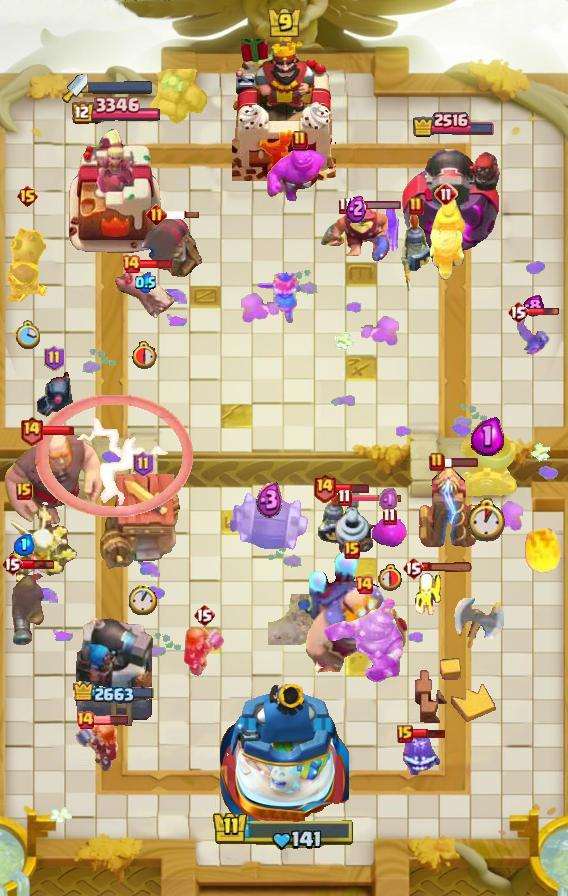axe: (453, 598, 505, 650)
bar: (422, 562, 474, 573), (351, 200, 402, 211), (349, 493, 403, 502), (93, 714, 129, 726), (20, 558, 56, 570), (443, 456, 479, 468), (335, 482, 370, 494), (139, 258, 174, 270), (411, 728, 447, 739), (41, 425, 75, 436), (164, 210, 200, 220), (526, 307, 560, 317)
bar-level: (312, 472, 337, 503), (19, 415, 44, 446), (434, 182, 458, 206), (16, 184, 39, 208), (133, 451, 154, 477), (44, 345, 65, 371), (193, 603, 215, 627), (402, 556, 424, 580), (1, 552, 23, 576), (507, 300, 529, 324), (146, 204, 167, 225), (75, 710, 95, 730), (354, 575, 374, 595), (121, 254, 141, 274), (429, 452, 445, 472), (408, 196, 424, 216), (292, 130, 308, 150), (397, 725, 413, 743), (344, 541, 360, 559), (16, 482, 32, 500), (382, 507, 397, 526), (337, 488, 352, 507), (338, 196, 353, 215)
barbarian-barrel: (227, 490, 311, 552)
bat-evolution: (515, 312, 551, 358)
bomber-evolution: (3, 211, 51, 307)
cannoneer-tower: (401, 138, 505, 256), (71, 611, 157, 731)
clock: (466, 498, 508, 542), (129, 584, 157, 615), (132, 340, 159, 369), (15, 320, 40, 350), (376, 563, 402, 591)
dagger-duchess-tower: (64, 124, 164, 256)
dagger-duchess-tower-bar: (88, 81, 152, 94)
dirt: (268, 594, 330, 645)
electro-spirit: (400, 731, 440, 775)
elixir: (471, 417, 504, 456), (256, 482, 283, 519), (346, 194, 366, 223), (379, 487, 400, 513), (522, 295, 544, 317), (14, 534, 35, 556), (135, 272, 156, 293)
elixir-golem-mid: (266, 147, 334, 203)
elixir-golem-small: (371, 519, 407, 549)
golemite: (141, 68, 207, 130)
guard: (397, 212, 435, 300), (318, 489, 362, 547)
hog: (112, 268, 178, 322)
king-tower: (220, 678, 349, 826), (232, 39, 336, 181)
king-tower-bar: (212, 810, 356, 852)
mini-pekka: (33, 368, 75, 422)
mortar: (457, 432, 517, 496)
musketeer: (10, 569, 48, 647)
ram-rider: (425, 199, 467, 281)
skeleton: (413, 572, 443, 616)
skeleton-evolution: (382, 204, 402, 254)
tesla: (414, 464, 482, 550)
tower-bar: (69, 97, 160, 126), (411, 110, 495, 138), (73, 681, 156, 706)
valkyrie: (255, 271, 303, 325), (73, 723, 121, 773), (183, 626, 225, 676)
zappy: (328, 500, 376, 554)
